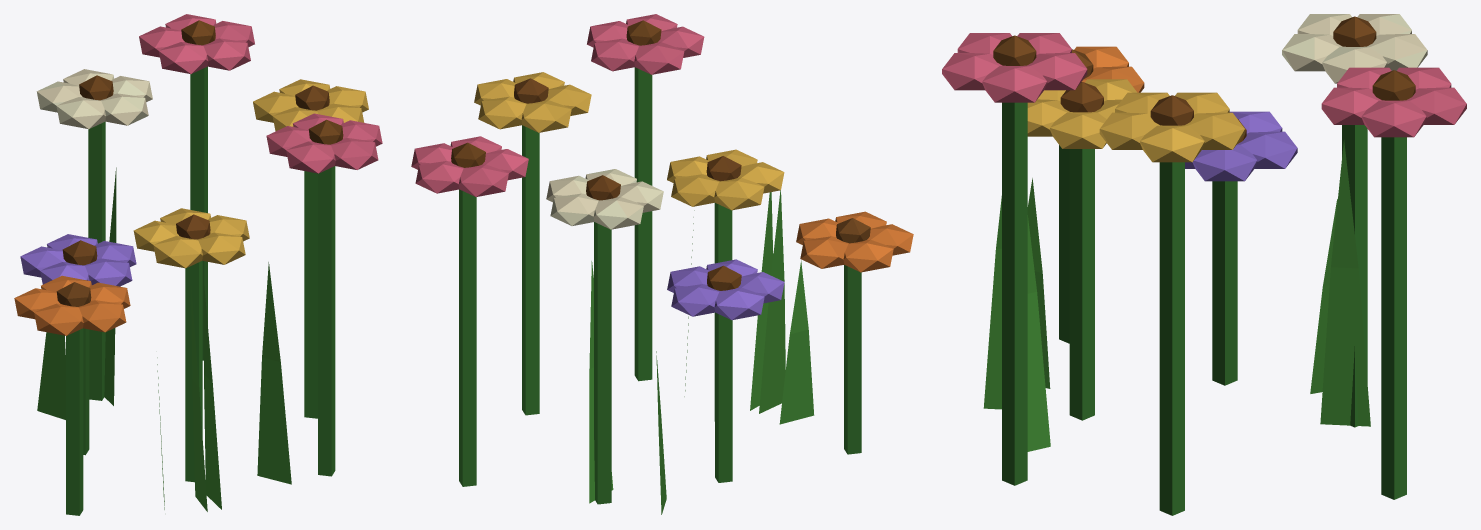
File: Flowers.glb
3 views of the same model, side by side, from view 1: azimuth 30°, elevation 25°; view 2: azimuth 150°, elevation 25°; view 3: azimuth 270°, elevation 25° (orthographic). The views are drawn at different scales.
Visible parts, largest first — view 1: Flowers; view 2: Flowers; view 3: Flowers.
Boxes of the visible parts, <box> form: Flowers: <box>14,14,382,515</box>; Flowers: <box>411,14,913,514</box>; Flowers: <box>942,14,1466,515</box>.
Bounding box in the file's own units: 0.6495 × 0.5801 × 0.6197.
